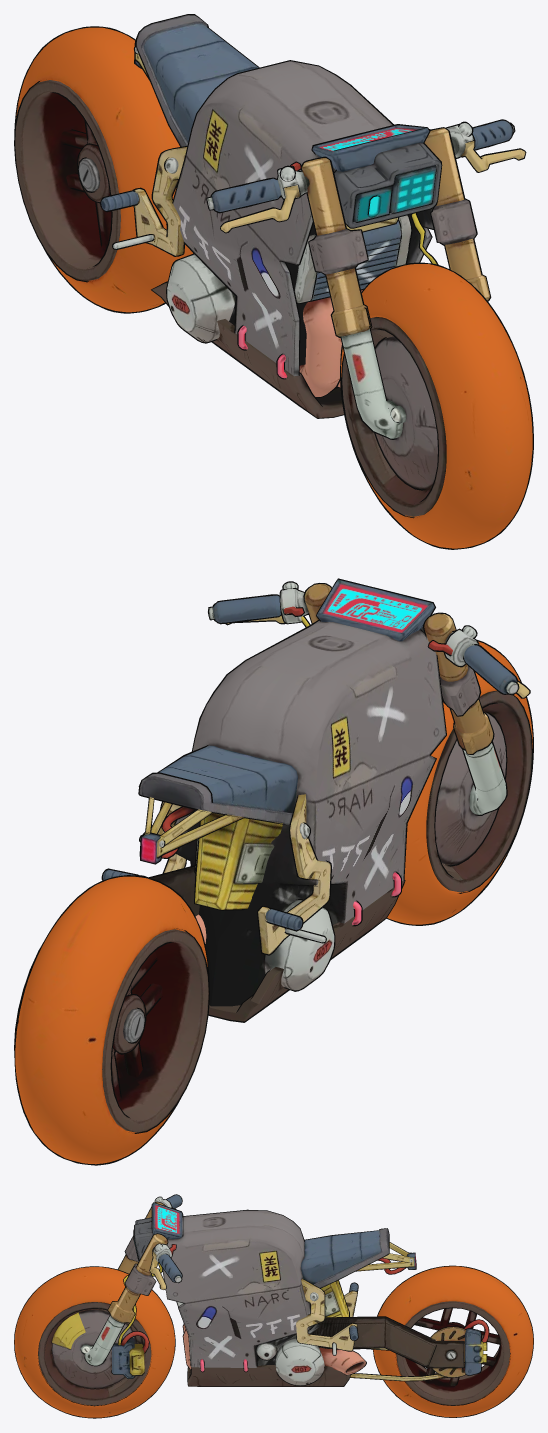
File: shoe-transformed.glb
The picture shows the model from 3 angles, top to bottom: view 1: azimuth 30°, elevation 25°; view 2: azimuth 150°, elevation 25°; view 3: azimuth 270°, elevation 25°; orthographic projection. The views are drawn at different scales.
Parts seen in each view (by area): view 1: Object_2, Object_3; view 2: Object_2, Object_3; view 3: Object_2, Object_3.
Boxes of the visible parts, x1,y1,x2,y2 form: Object_2: [15, 15, 532, 548]; Object_3: [14, 14, 533, 549]; Object_2: [15, 579, 532, 1164]; Object_3: [14, 578, 533, 1165]; Object_2: [14, 1195, 533, 1417]; Object_3: [14, 1194, 533, 1418].
Bounding box in the file's own units: 1.1 × 1.24 × 2.92.
2 materials, 2 textured.
